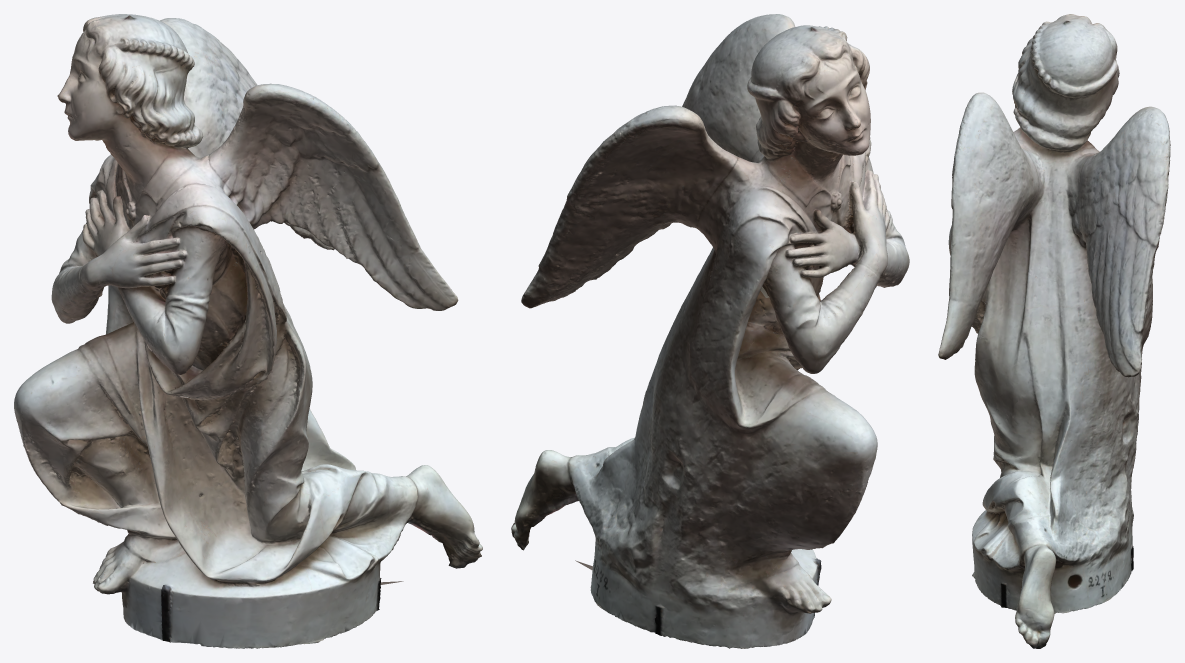
The model's file is statue.glb.
3 renders of one model, left to right at view 1: azimuth 30°, elevation 25°; view 2: azimuth 150°, elevation 25°; view 3: azimuth 270°, elevation 25°, orthographic. The views are drawn at different scales.
Visible parts, largest first — view 1: Mesh_0_Part_0; view 2: Mesh_0_Part_0; view 3: Mesh_0_Part_0.
Part boxes in pixels (x1,y1,x2,y2): Mesh_0_Part_0: (14, 14, 482, 648); Mesh_0_Part_0: (511, 14, 909, 648); Mesh_0_Part_0: (938, 14, 1170, 648).
Bounding box in the file's own units: 0.7189 × 1.02 × 0.4256.
1 material, 1 textured.
